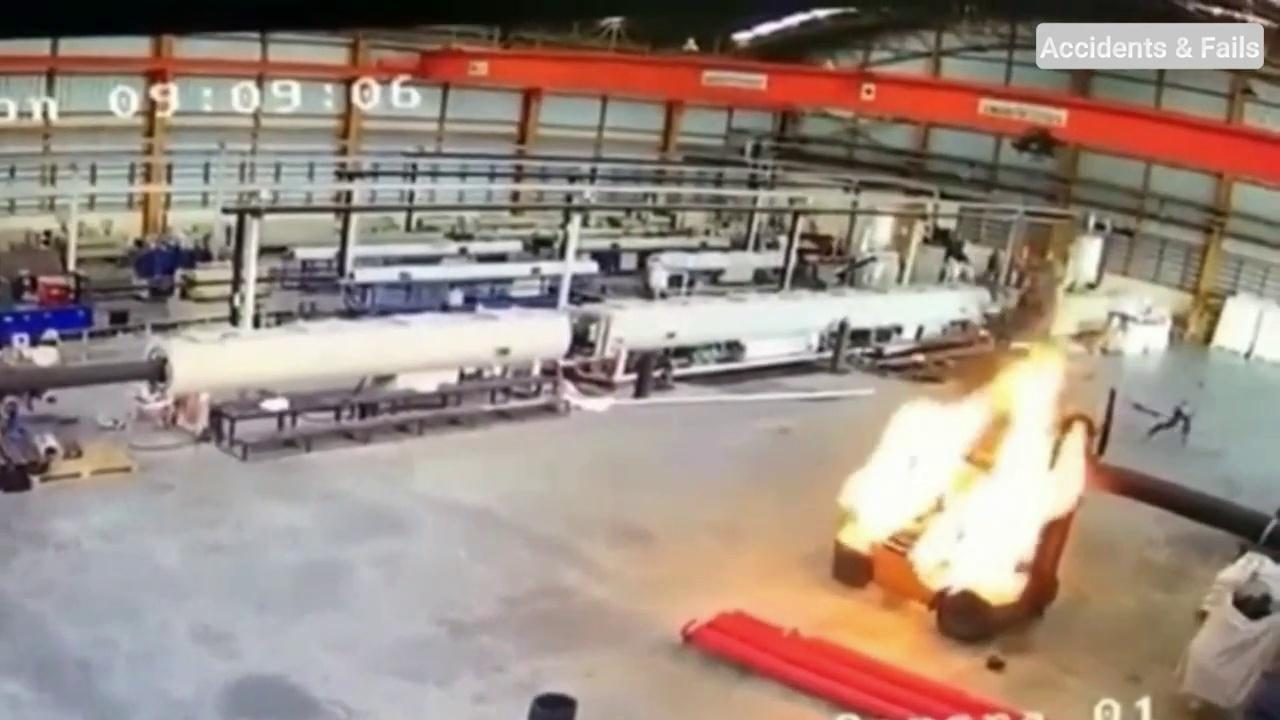fire: (703, 292, 1152, 678)
